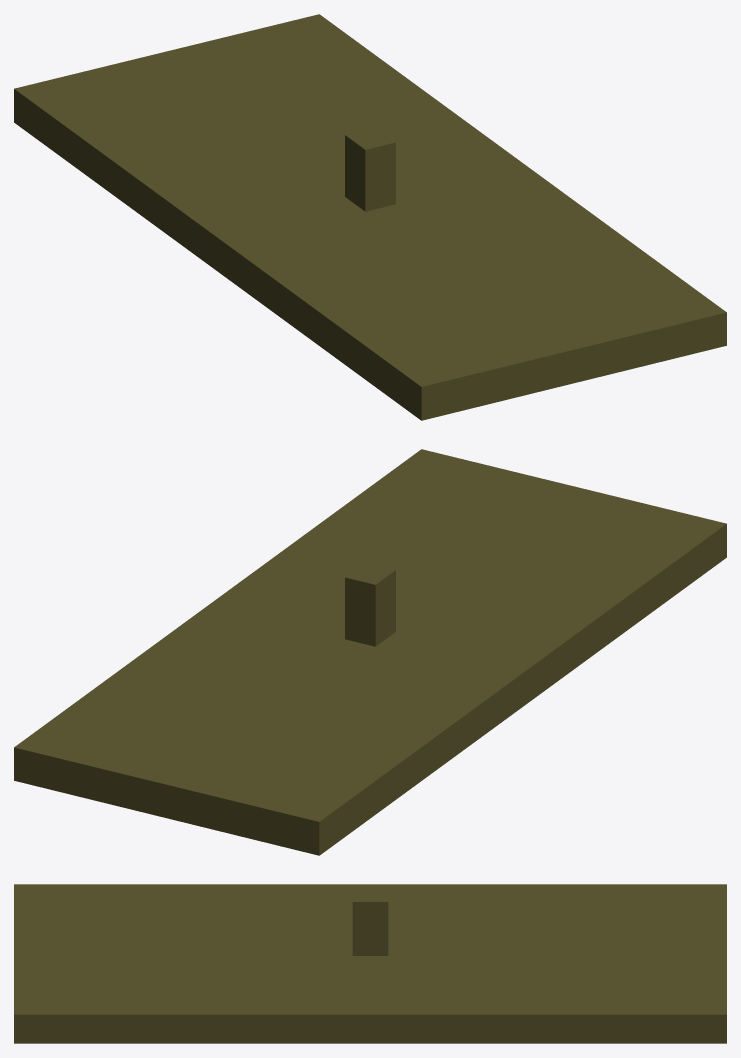
Rendered from activador reliquia1.fbx.
The picture shows the model from 3 angles, top to bottom: view 1: azimuth 30°, elevation 25°; view 2: azimuth 150°, elevation 25°; view 3: azimuth 270°, elevation 25°; orthographic projection. The views are drawn at different scales.
Visible parts, largest first — view 1: Cube.006; view 2: Cube.006; view 3: Cube.006.
Part boxes in pixels (box(x1,y1,x2,y2)): Cube.006: box(14, 14, 726, 420); Cube.006: box(14, 449, 726, 855); Cube.006: box(14, 884, 726, 1043).
Size of the model in its own units: 52.3 by 15.65 by 121.
